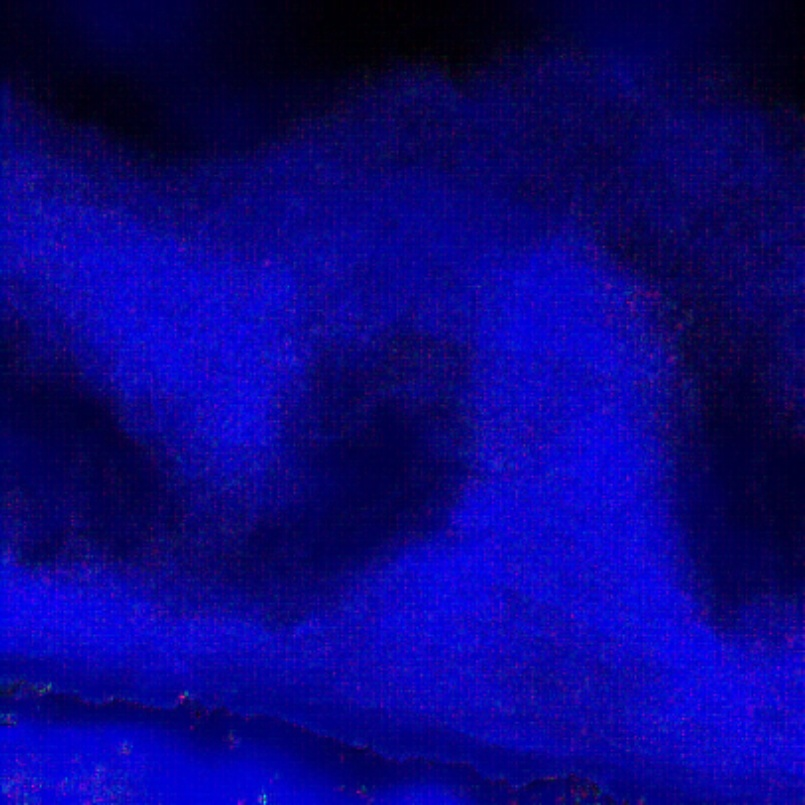rip_current: (185, 87, 512, 665)
